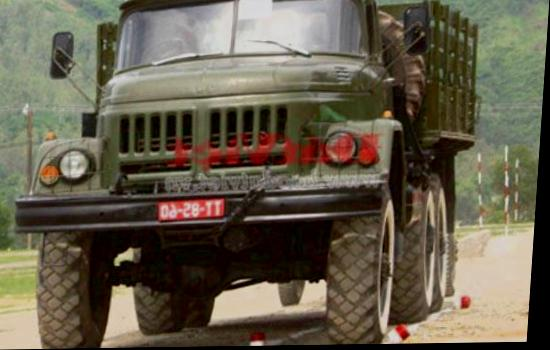License_Plate: (156, 193, 227, 226)
